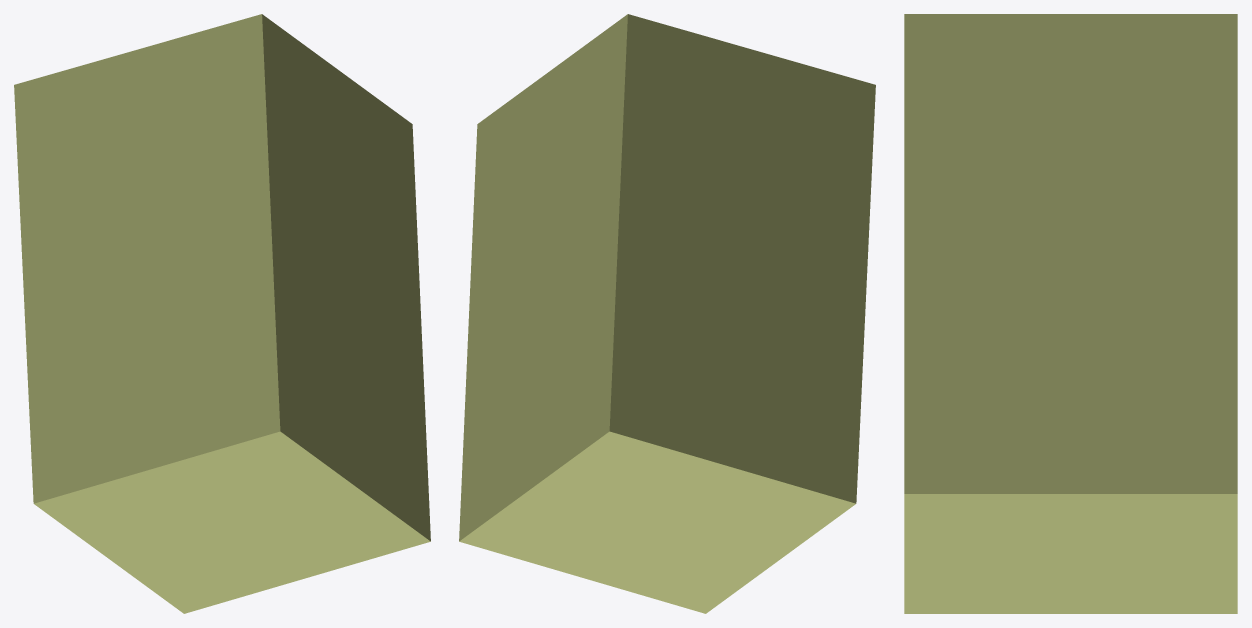
The picture shows the model from 3 angles, left to right: view 1: azimuth 30°, elevation 25°; view 2: azimuth 150°, elevation 25°; view 3: azimuth 270°, elevation 25°; orthographic projection. The views are drawn at different scales.
Visible parts, largest first — view 1: 0_1_2_0_3_3_1_3_0_3; view 2: 0_1_2_0_3_3_1_3_0_3; view 3: 0_1_2_0_3_3_1_3_0_3.
Boxes of the visible parts, bbox=[...] form: 0_1_2_0_3_3_1_3_0_3: bbox=[14, 14, 430, 613]; 0_1_2_0_3_3_1_3_0_3: bbox=[459, 14, 875, 613]; 0_1_2_0_3_3_1_3_0_3: bbox=[904, 14, 1237, 613].
Bounding box in the file's own units: 9.19 × 14.31 × 9.
